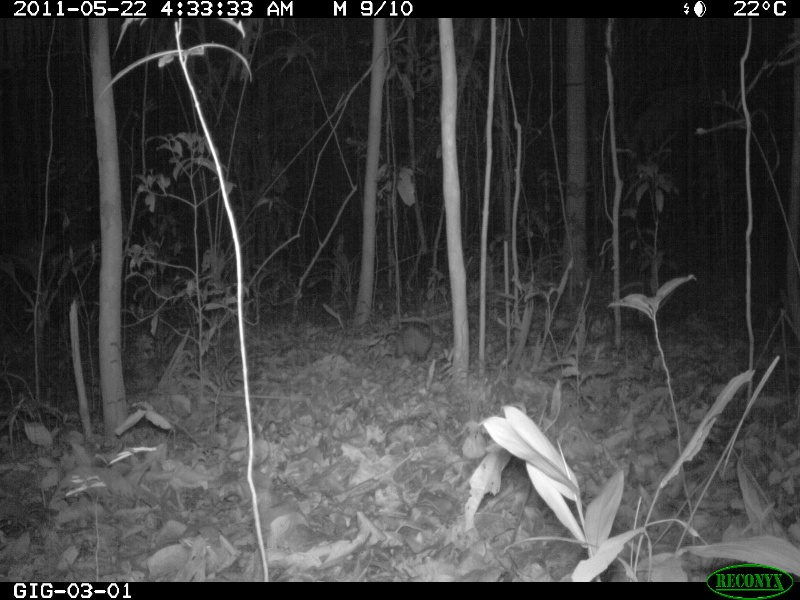opossum: (388, 320, 446, 365)
